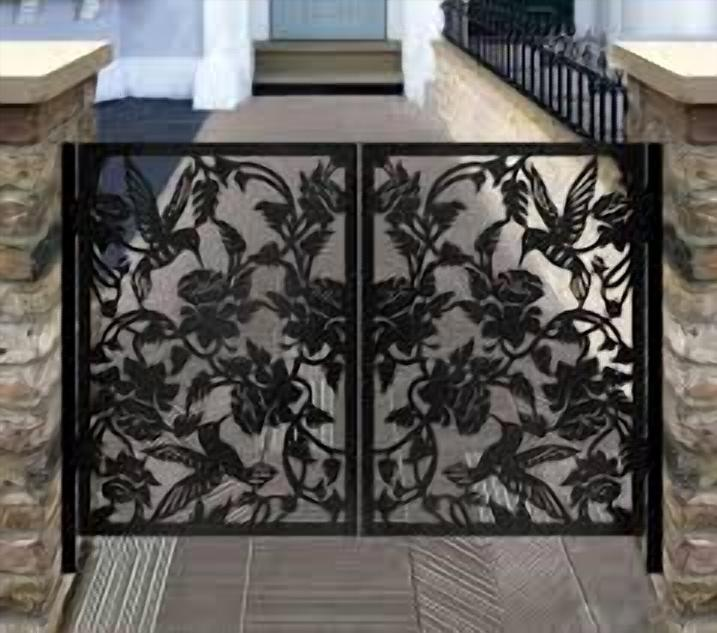Gate: (54, 139, 652, 539)
